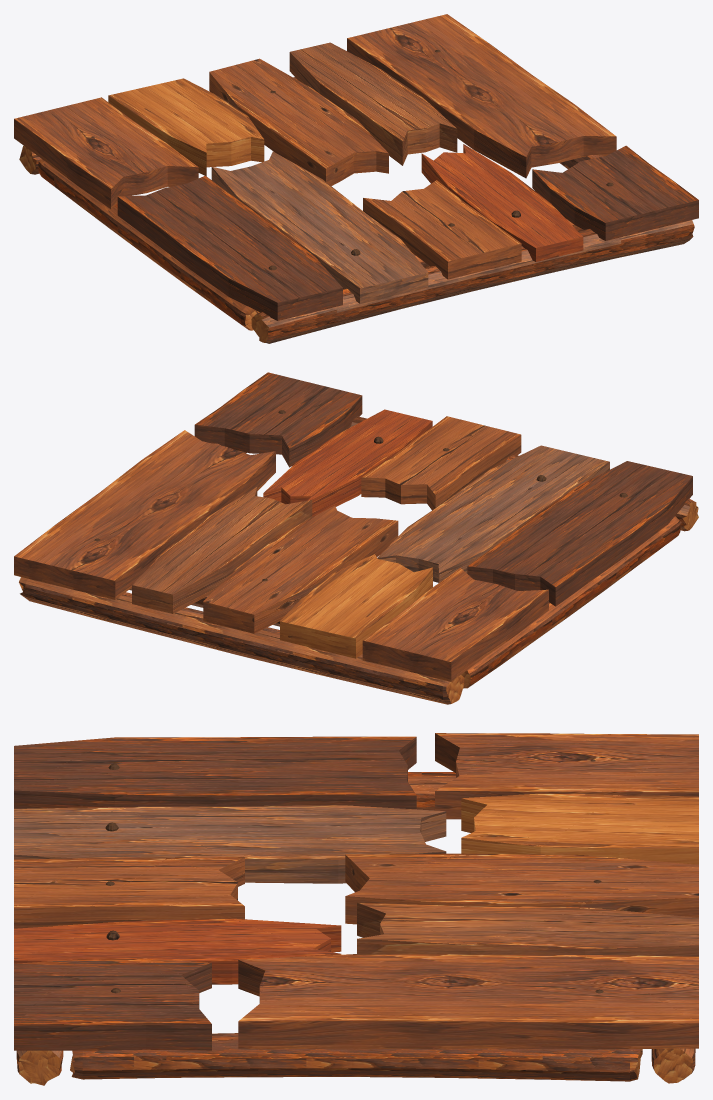
File: trap_floor_break.glb
3 renders of one model, top to bottom at view 1: azimuth 30°, elevation 25°; view 2: azimuth 150°, elevation 25°; view 3: azimuth 270°, elevation 25°, orthographic. The views are drawn at different scales.
Visible parts, largest first — view 1: board8, board1, frame, board3, board0, board4, board9, board6, board5, board2, board7; view 2: board8, frame, board1, board3, board0, board4, board6, board9, board2, board5, board7; view 3: board8, board1, board3, frame, board4, board9, board0, board6, board2, board5, board7.
Boxes of the visible parts, x1=… form: board8: x1=347, y1=14, x2=616, y2=178; board1: x1=117, y1=175, x2=342, y2=320; frame: x1=19, y1=77, x2=694, y2=343; board3: x1=211, y1=151, x2=428, y2=303; board0: x1=14, y1=97, x2=198, y2=208; board4: x1=209, y1=58, x2=388, y2=185; board9: x1=532, y1=145, x2=698, y2=240; board6: x1=289, y1=42, x2=457, y2=165; board5: x1=363, y1=180, x2=521, y2=279; board2: x1=108, y1=78, x2=264, y2=176; board7: x1=421, y1=144, x2=583, y2=261; board8: x1=14, y1=430, x2=275, y2=599; frame: x1=19, y1=416, x2=698, y2=704; board1: x1=467, y1=461, x2=692, y2=606; board3: x1=377, y1=445, x2=609, y2=582; board0: x1=362, y1=568, x2=548, y2=681; board4: x1=203, y1=505, x2=398, y2=633; board6: x1=132, y1=487, x2=312, y2=613; board9: x1=194, y1=372, x2=362, y2=467; board2: x1=280, y1=554, x2=432, y2=658; board5: x1=361, y1=416, x2=521, y2=510; board7: x1=263, y1=409, x2=432, y2=517; board8: x1=238, y1=954, x2=698, y2=1049; board1: x1=14, y1=736, x2=416, y2=809; board3: x1=14, y1=805, x2=446, y2=883; frame: x1=16, y1=772, x2=695, y2=1085; board4: x1=345, y1=853, x2=698, y2=924; board9: x1=14, y1=958, x2=211, y2=1050; board0: x1=435, y1=733, x2=698, y2=819; board6: x1=357, y1=902, x2=698, y2=956; board2: x1=461, y1=793, x2=698, y2=864; board5: x1=14, y1=857, x2=244, y2=928; board7: x1=14, y1=918, x2=341, y2=984.
Bounding box in the file's own units: 1.98 × 0.2449 × 1.99.
19 materials, 19 textured.
